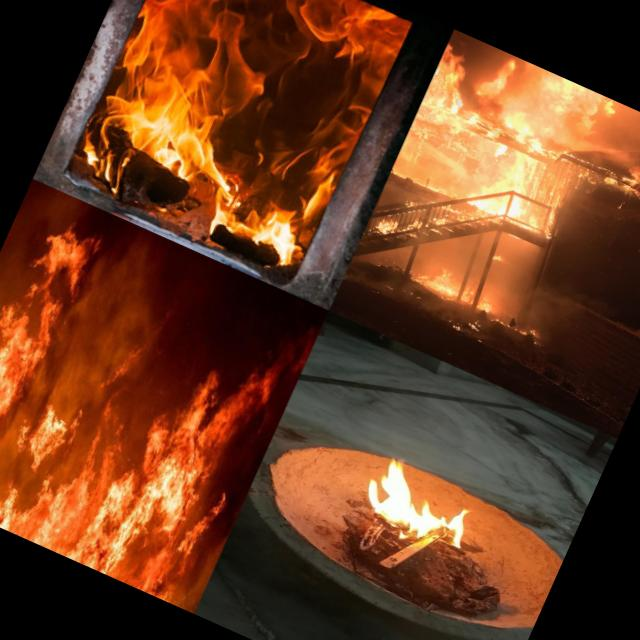fire: (66, 0, 413, 284), (0, 283, 289, 609), (0, 203, 106, 518), (467, 49, 635, 178), (339, 442, 494, 571), (435, 142, 557, 246), (417, 30, 485, 126), (579, 131, 640, 214), (402, 190, 476, 256), (412, 262, 498, 318), (362, 194, 413, 248)
